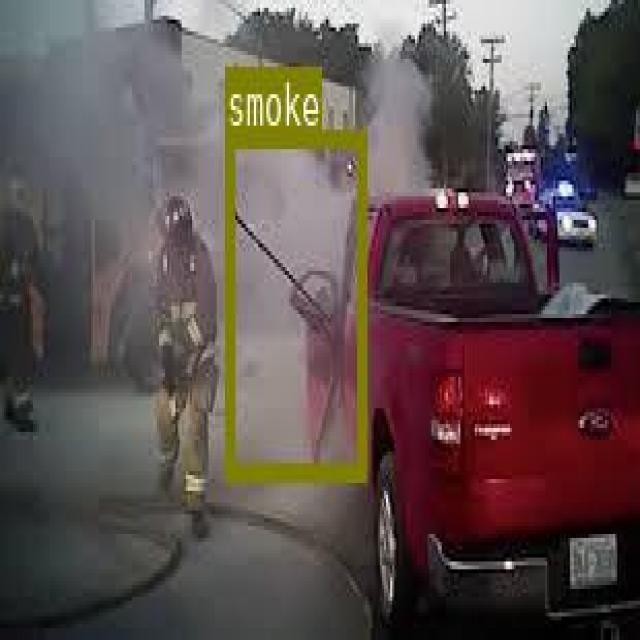smoke: (223, 126, 364, 475)
